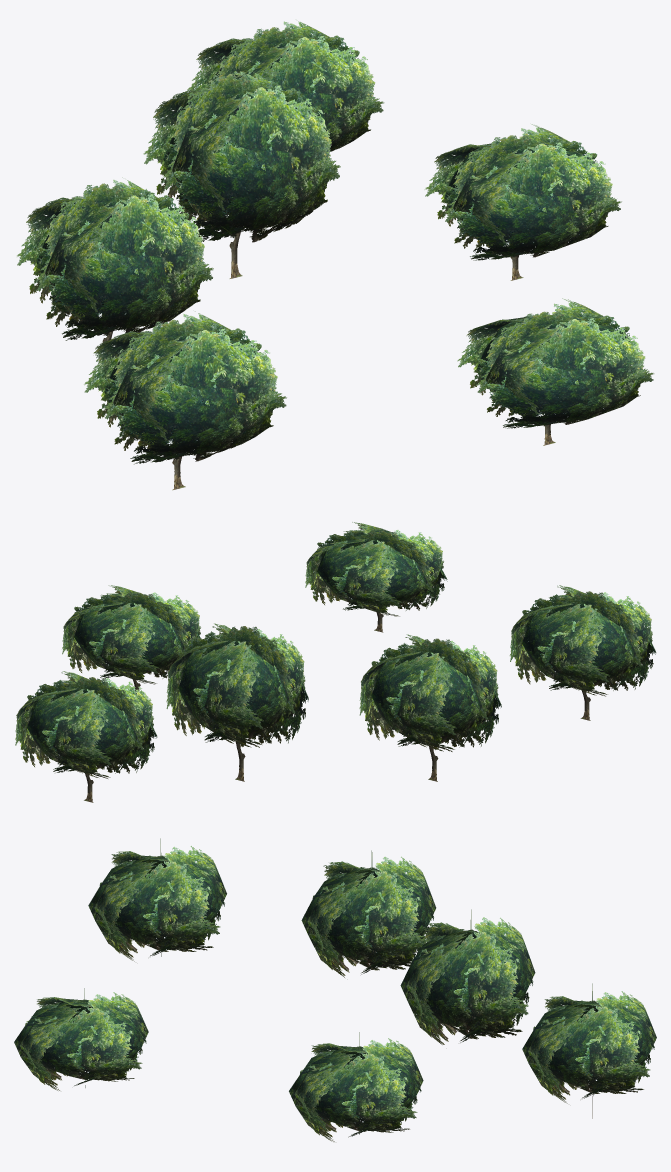
Rendered from mango-tree.dae.
3 renders of one model, top to bottom at view 1: azimuth 30°, elevation 25°; view 2: azimuth 150°, elevation 25°; view 3: azimuth 270°, elevation 25°, orthographic. The views are drawn at different scales.
Visible parts, largest first — view 1: Component_70 (×26), manggo (×6); view 2: Component_70 (×23), manggo (×6); view 3: Component_70 (×30).
Boxes of the visible parts, x1=… form: Component_70 (×26): x1=17, y1=36, x2=654, y2=464; manggo (×6): x1=36, y1=27, x2=629, y2=490; Component_70 (×23): x1=15, y1=530, x2=656, y2=778; manggo (×6): x1=27, y1=530, x2=642, y2=802; Component_70 (×30): x1=14, y1=846, x2=656, y2=1141.
Size of the model in its own units: 1704 by 1937 by 550.
